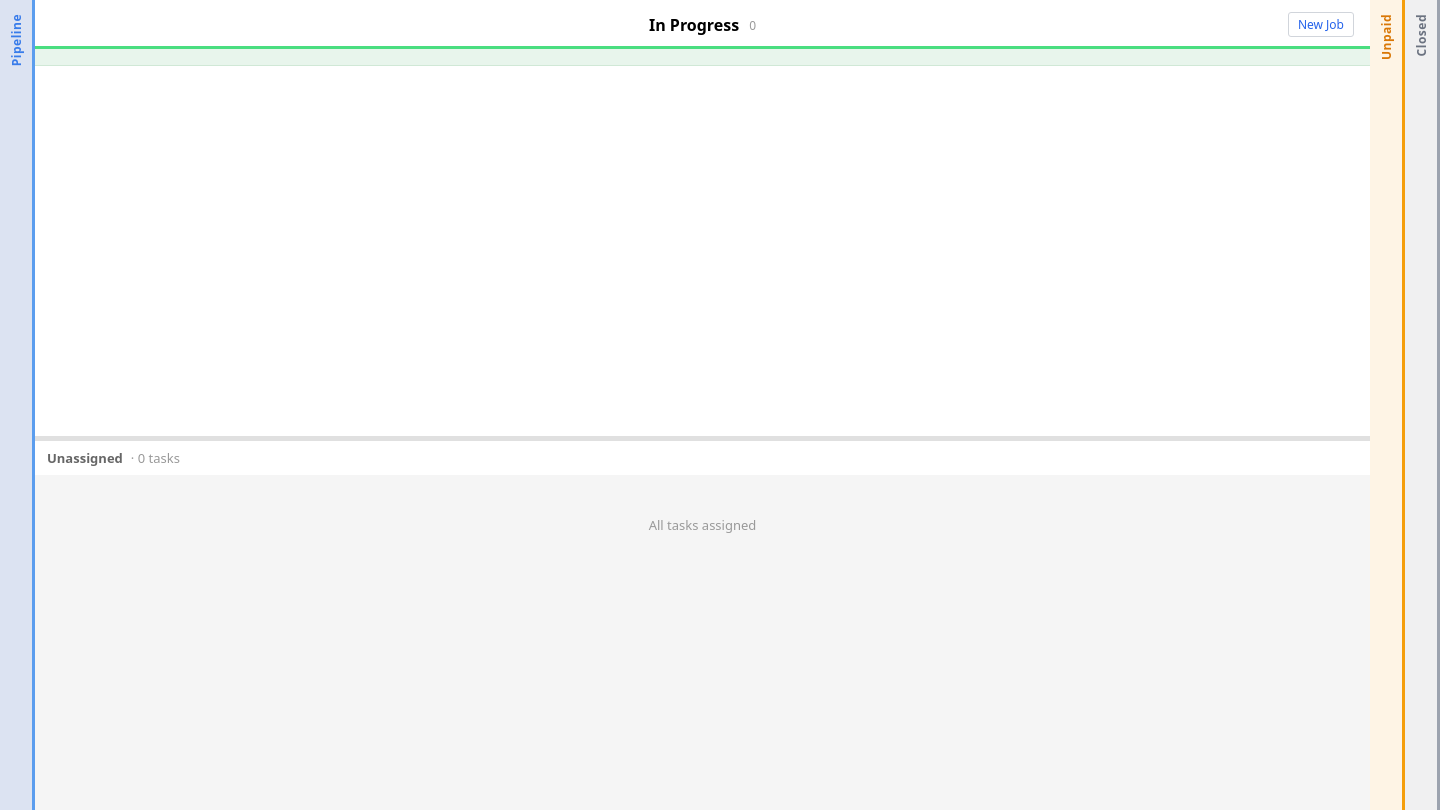
Test: JobBoardPage New Job entry point › keeps the button in the Closed pillar header
expect the element with class "approved-header" is shown: met, box [35,0,1370,49]
Step 1. Click the button "Closed" → (1422, 405), box [1405,0,1439,809]
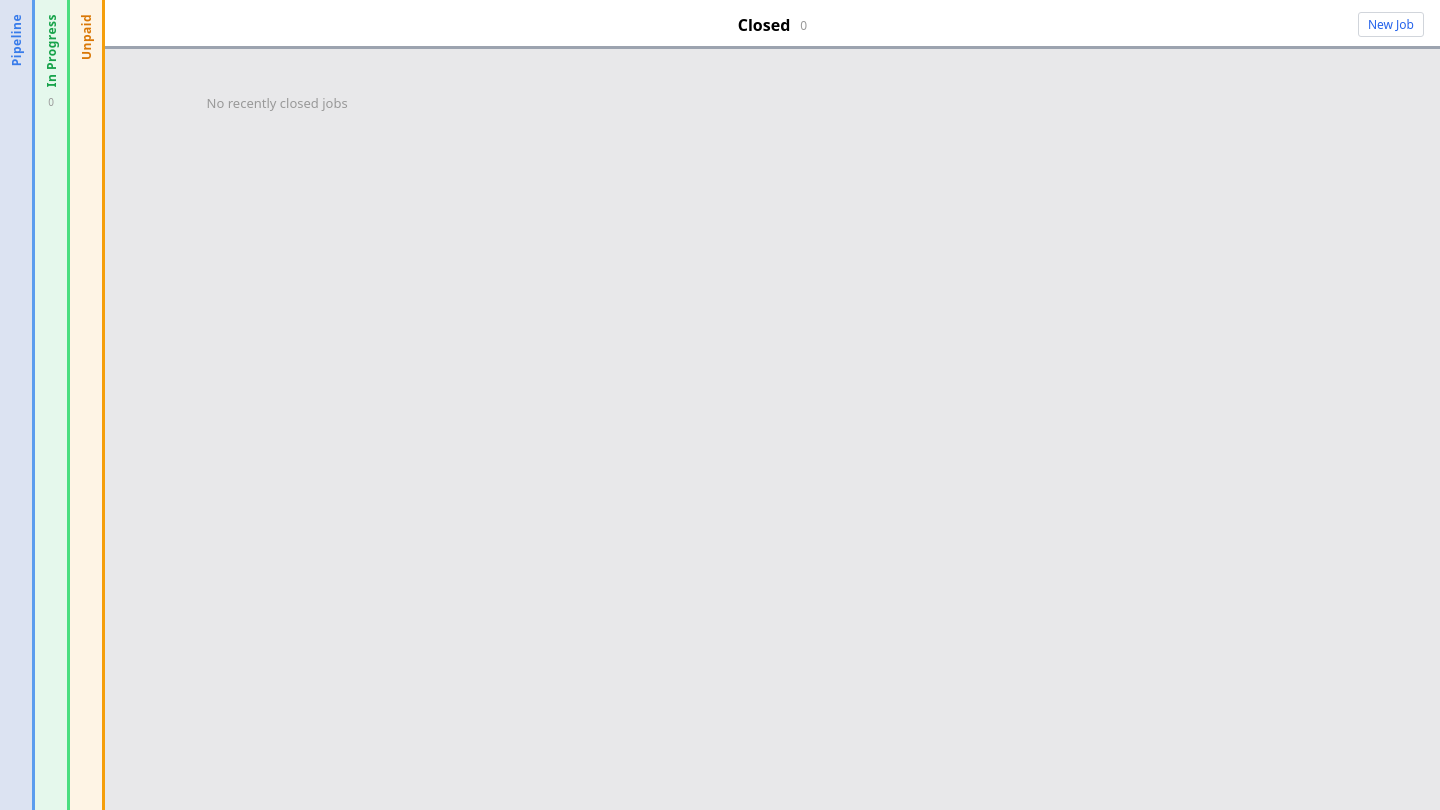
expect the element with class "column-header" is shown: met, box [105,0,1439,49]
expect the element with class "column-header" shows "Closed": met, box [738,14,790,36]
